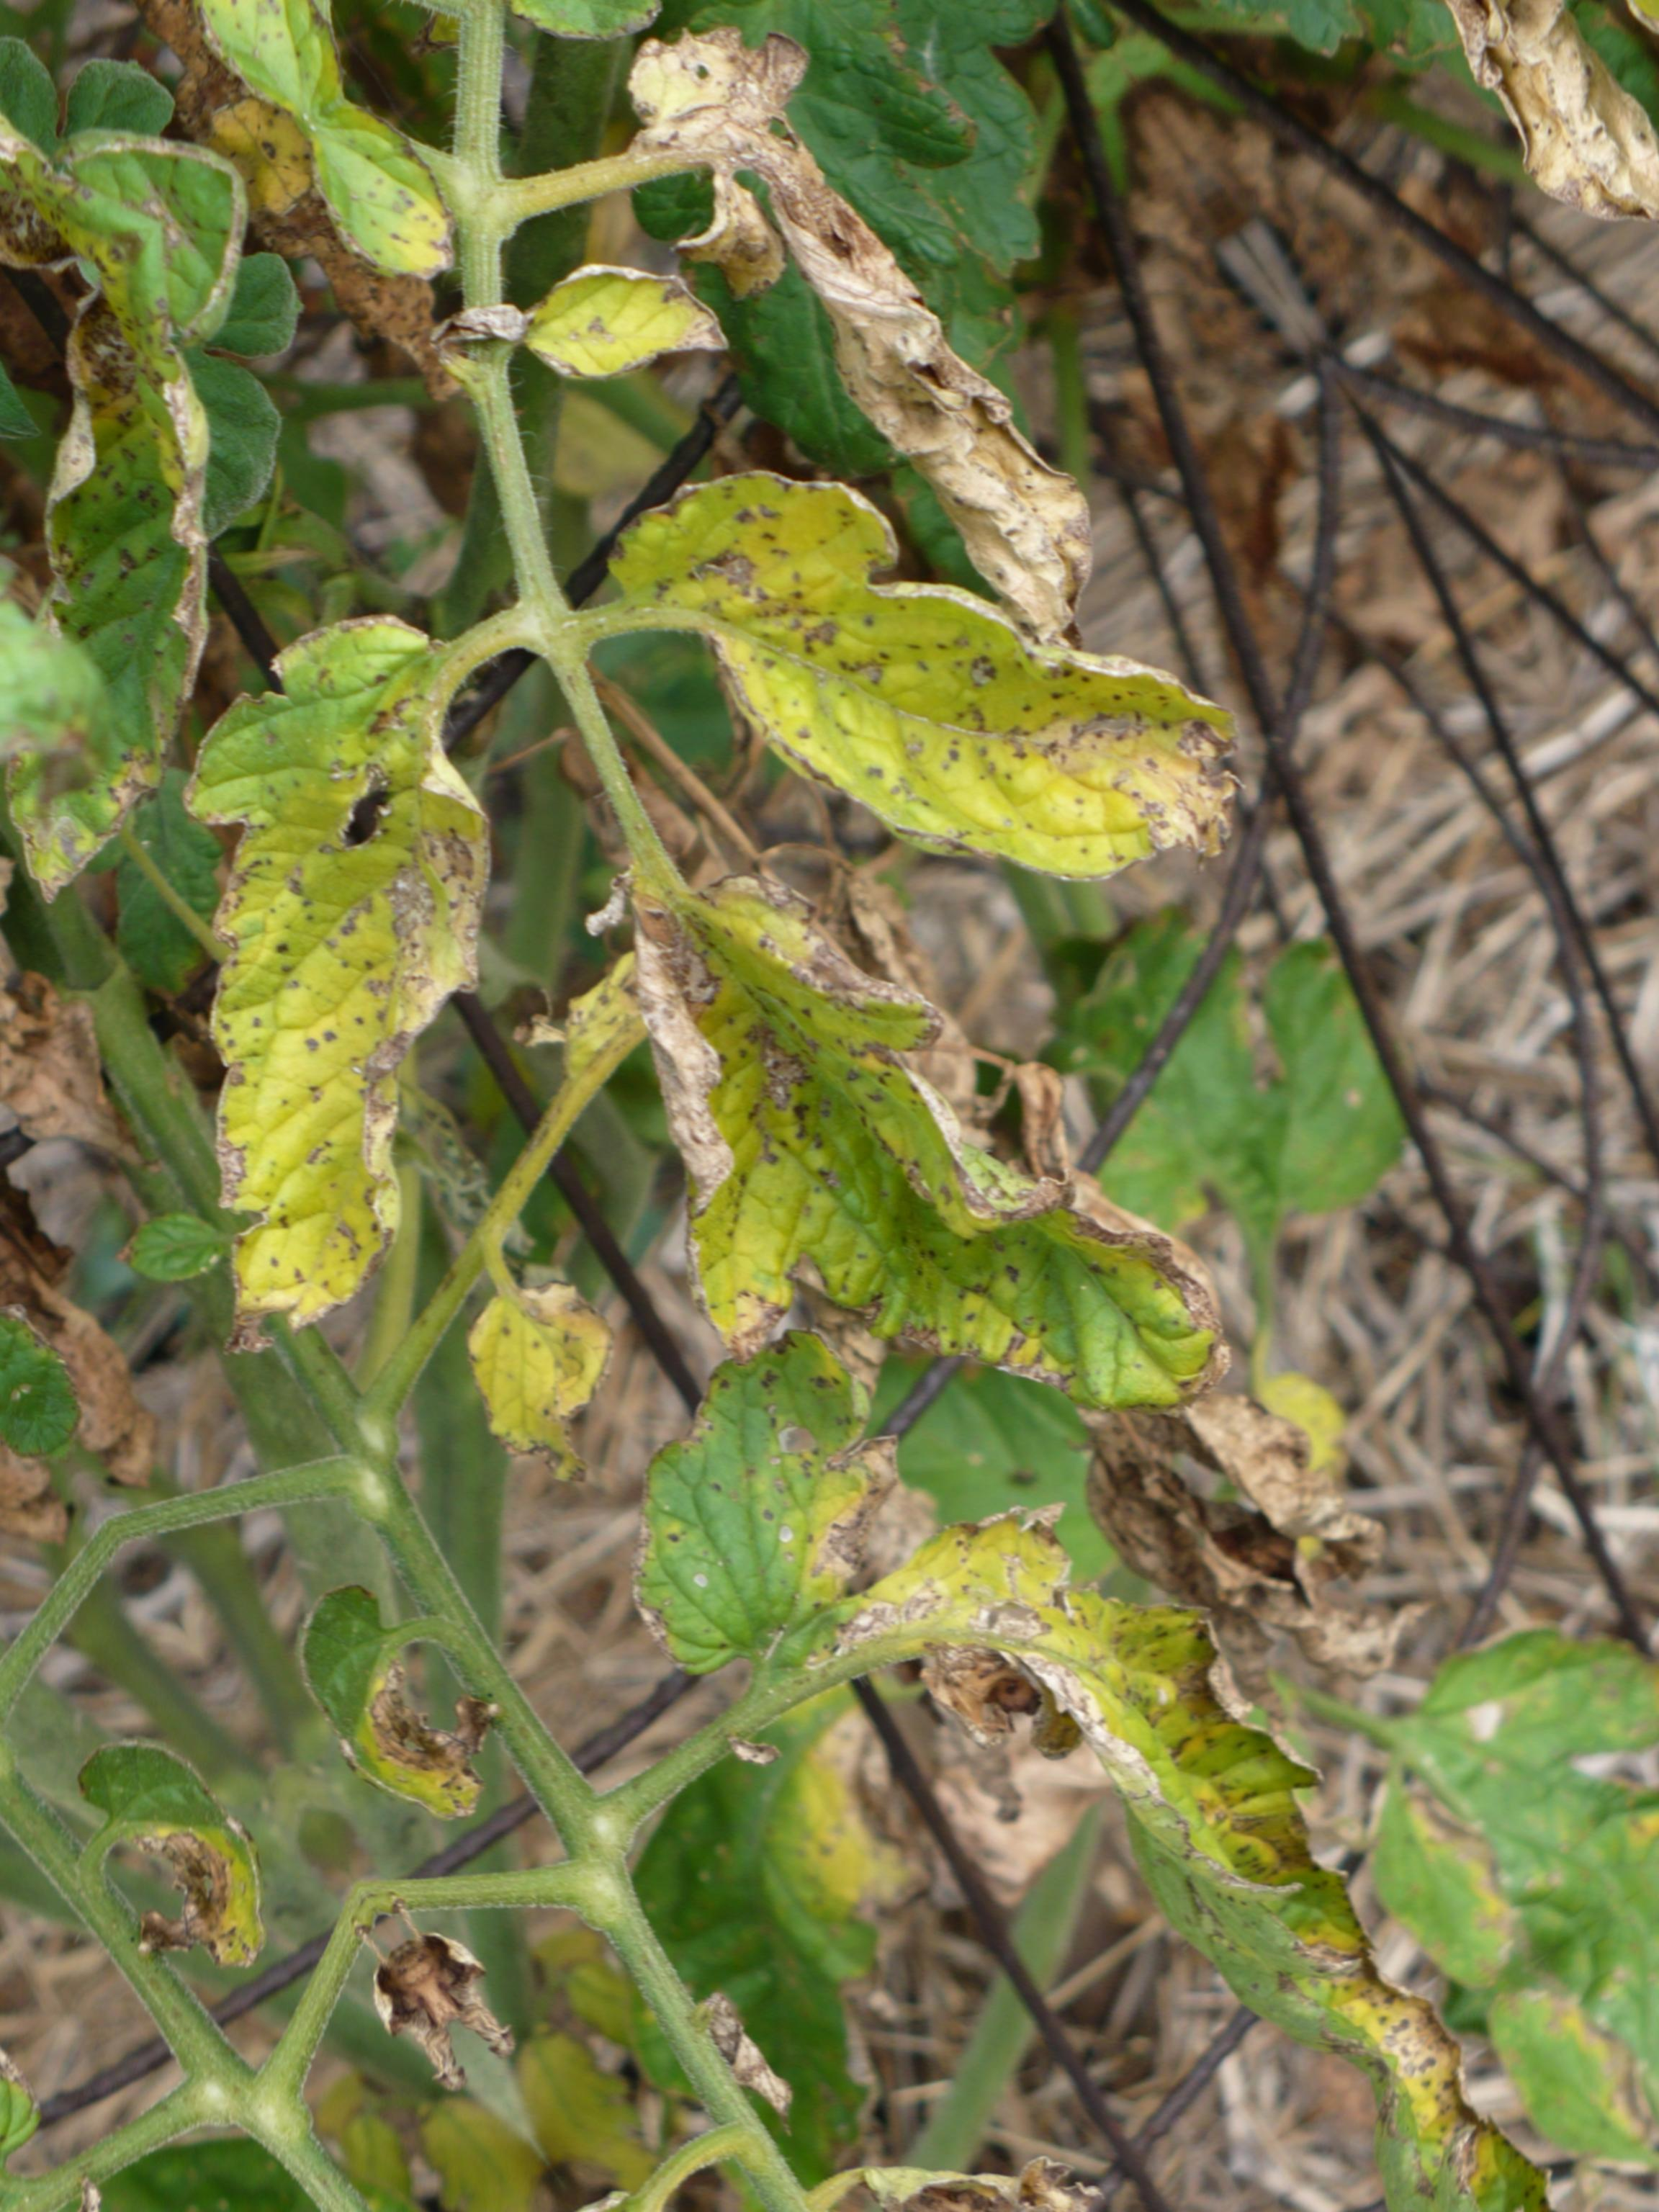Tomato Septoria leaf spot: (502, 1242, 1473, 2212), (0, 540, 772, 1414), (488, 756, 1267, 1590), (551, 320, 1244, 1061)
